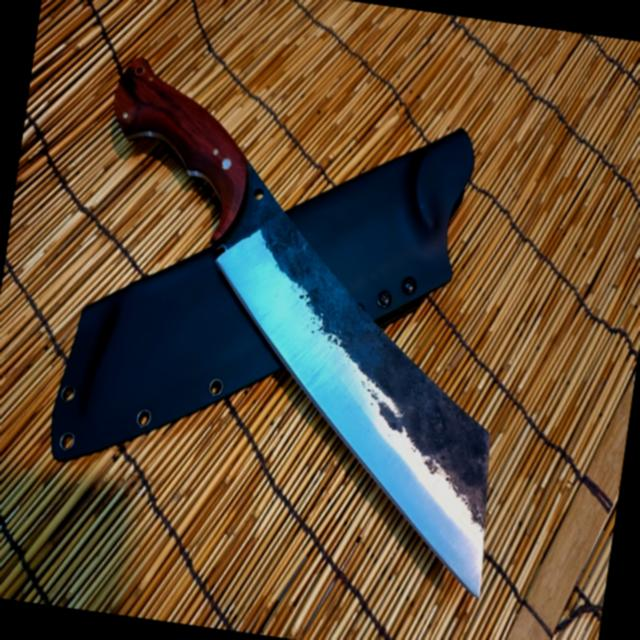eto: (96, 46, 500, 619)
